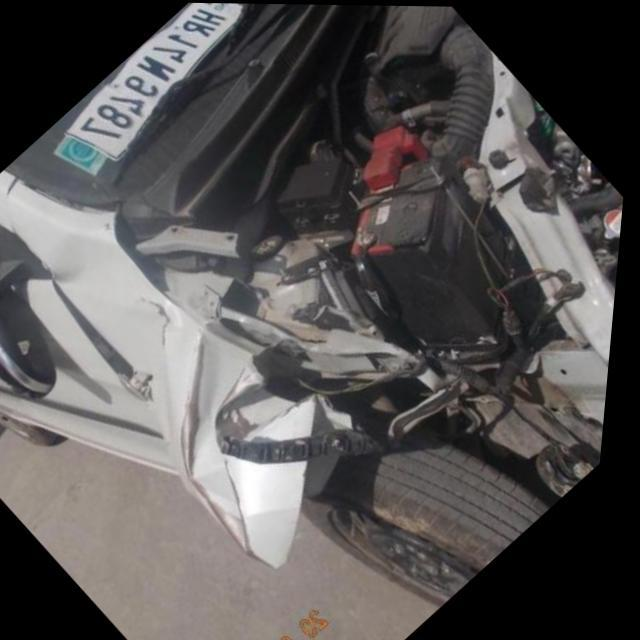dislocated part: (53, 274, 165, 410)
no part: (119, 4, 627, 567)
